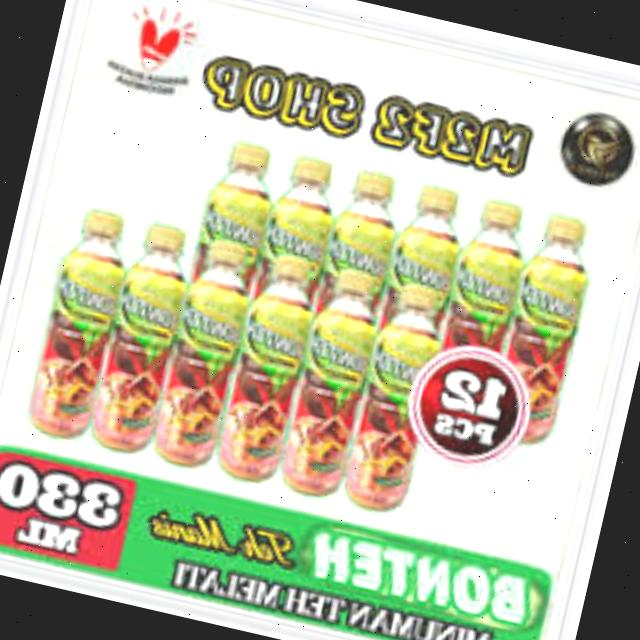trash: (414, 185, 543, 444), (342, 268, 474, 519), (482, 204, 607, 456), (272, 260, 398, 508), (86, 212, 204, 458), (205, 246, 326, 484), (17, 203, 135, 444), (144, 234, 254, 466), (241, 142, 354, 362), (358, 170, 472, 385), (176, 126, 290, 326), (302, 159, 402, 360)
